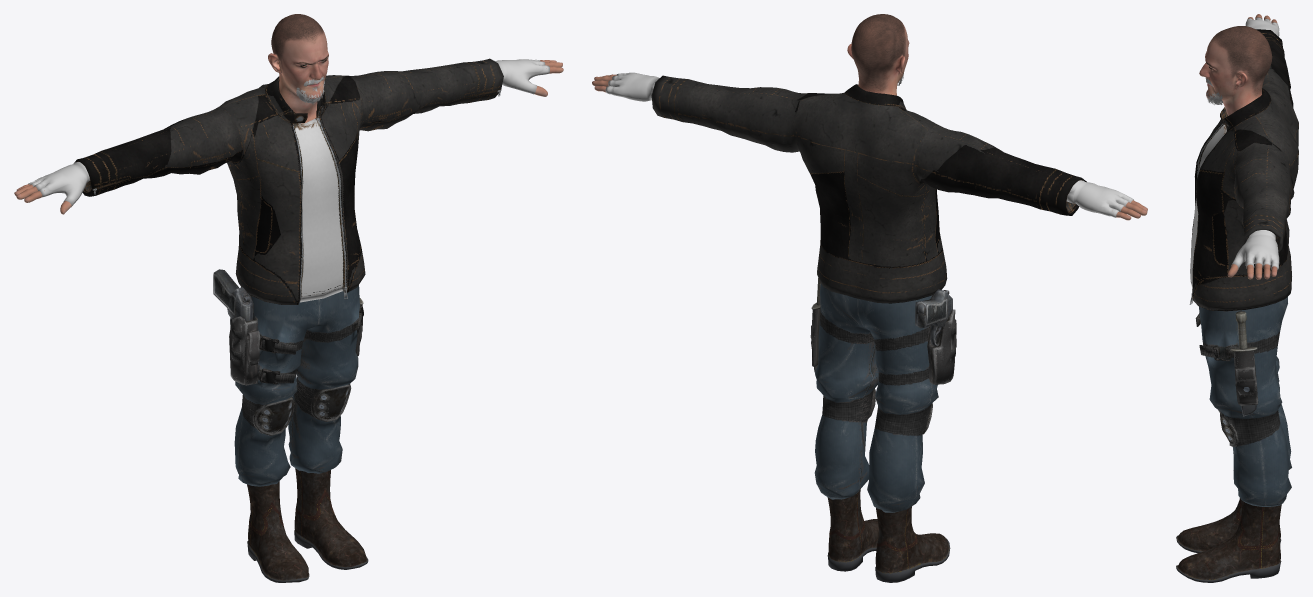
File: Enemy_01.obj
The picture shows the model from 3 angles, left to right: view 1: azimuth 30°, elevation 25°; view 2: azimuth 150°, elevation 25°; view 3: azimuth 270°, elevation 25°; orthographic projection. The views are drawn at different scales.
Visible parts, largest first — view 1: Tops, Bottoms, Shoes, Body, Gloves; view 2: Tops, Bottoms, Shoes, Body, Gloves; view 3: Tops, Bottoms, Shoes, Body, Gloves.
Boxes of the visible parts, x1,y1,x2,y2 form: Tops: (74, 58, 503, 304); Bottoms: (213, 269, 363, 486); Shoes: (247, 468, 368, 582); Body: (14, 14, 563, 214); Gloves: (28, 59, 549, 207); Tops: (651, 75, 1086, 303); Bottoms: (810, 267, 956, 512); Shoes: (827, 489, 950, 582); Body: (592, 14, 1147, 220); Gloves: (605, 72, 1133, 217); Tops: (1189, 29, 1298, 311); Bottoms: (1195, 297, 1291, 506); Shoes: (1176, 498, 1281, 582); Body: (1199, 14, 1277, 279); Gloves: (1231, 17, 1279, 269).
Size of the model in its own units: 191 by 180 by 37.72.
